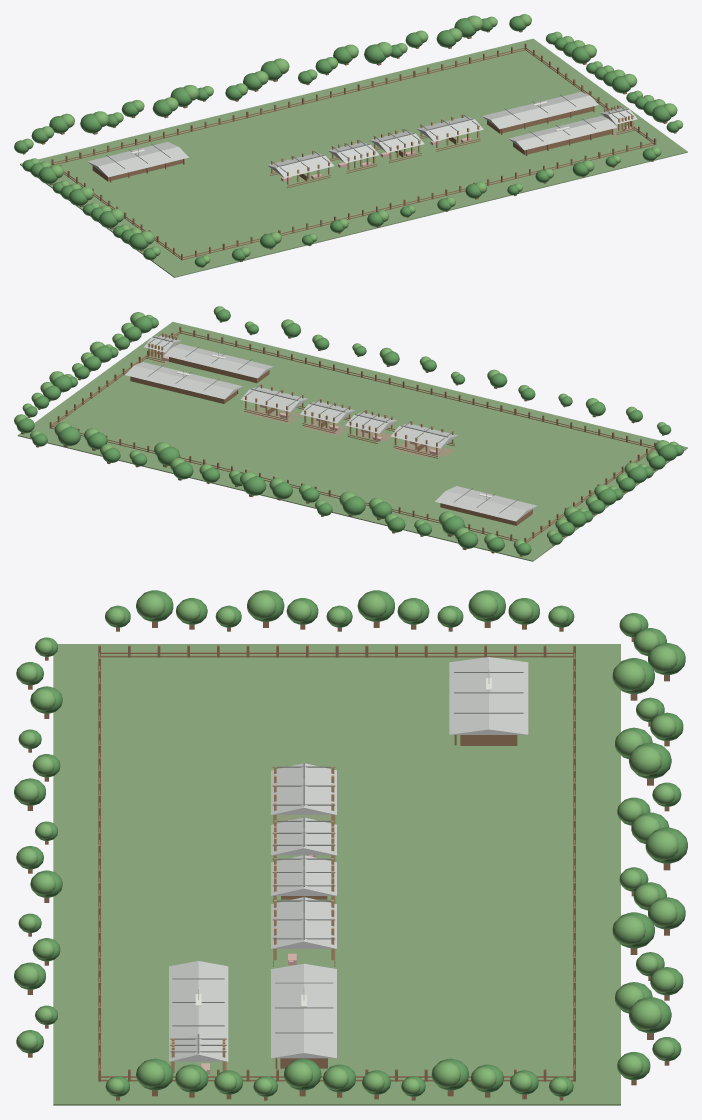
Rendered from farm.glb.
3 renders of one model, top to bottom at view 1: azimuth 30°, elevation 25°; view 2: azimuth 150°, elevation 25°; view 3: azimuth 270°, elevation 25°, orthographic. The views are drawn at different scales.
Parts seen in each view (by area): view 1: campo, gestacion-techo, galpon-alimentos-techo, maternidad-2-techo, engorde-techo, maternidad-1-techo, cerco-fondo-rail-b, cerco-fondo-rail-a, pre-destete-techo, cerco-frente-rail-b, parrilla-techo, gestacion-cuerpo (+3 smaller); view 2: campo, gestacion-techo, galpon-alimentos-techo, maternidad-2-techo, maternidad-1-techo, engorde-techo, cerco-frente-rail-b, cerco-frente-rail-a, pre-destete-techo, parrilla-techo, gestacion-cuerpo, maternidad-2-cuerpo (+3 smaller); view 3: campo, gestacion-techo, galpon-alimentos-techo, maternidad-2-techo, maternidad-1-techo, engorde-techo, pre-destete-techo, parrilla-techo, cerco-izquierda-rail-a, verracos-techo, cerco-izquierda-rail-b, arbol-11-copa-b (+4 smaller).
Part boxes in pixels (x1,y1,x2,y2): campo: [20, 38, 687, 277]; gestacion-techo: [482, 92, 598, 129]; galpon-alimentos-techo: [87, 142, 188, 177]; maternidad-2-techo: [508, 116, 617, 150]; engorde-techo: [267, 153, 333, 177]; maternidad-1-techo: [416, 116, 483, 141]; cerco-fondo-rail-b: [53, 47, 524, 163]; cerco-fondo-rail-a: [55, 49, 524, 164]; pre-destete-techo: [370, 131, 424, 152]; cerco-frente-rail-b: [183, 142, 654, 257]; parrilla-techo: [328, 142, 378, 163]; gestacion-cuerpo: [487, 106, 593, 133]; campo: [17, 322, 687, 561]; gestacion-techo: [125, 362, 242, 399]; galpon-alimentos-techo: [435, 486, 537, 521]; maternidad-2-techo: [164, 343, 273, 378]; maternidad-1-techo: [240, 387, 307, 411]; engorde-techo: [390, 423, 457, 448]; cerco-frente-rail-b: [181, 330, 653, 446]; cerco-frente-rail-a: [181, 332, 653, 448]; pre-destete-techo: [300, 401, 354, 423]; parrilla-techo: [345, 412, 396, 433]; gestacion-cuerpo: [130, 376, 237, 403]; maternidad-2-cuerpo: [169, 357, 268, 383]; campo: [53, 644, 620, 1105]; gestacion-techo: [271, 963, 336, 1058]; galpon-alimentos-techo: [449, 657, 528, 734]; maternidad-2-techo: [169, 961, 228, 1041]; maternidad-1-techo: [271, 897, 336, 948]; engorde-techo: [271, 763, 336, 814]; pre-destete-techo: [271, 855, 336, 895]; parrilla-techo: [271, 817, 336, 855]; cerco-izquierda-rail-a: [101, 655, 573, 657]; verracos-techo: [169, 1035, 228, 1061]; cerco-izquierda-rail-b: [101, 652, 573, 653]; arbol-11-copa-b: [645, 830, 678, 860].
Size of the model in its own units: 175 by 9.48 by 102.
